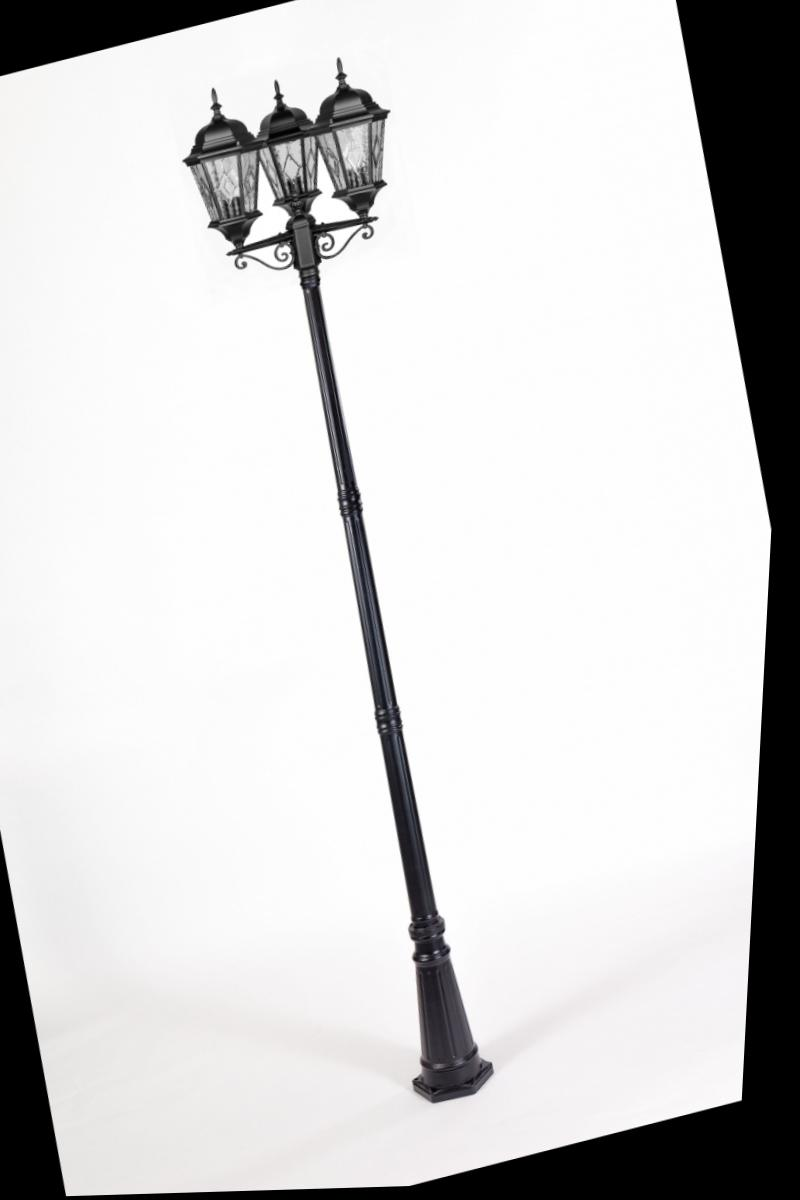Animal: (123, 32, 677, 1147)
